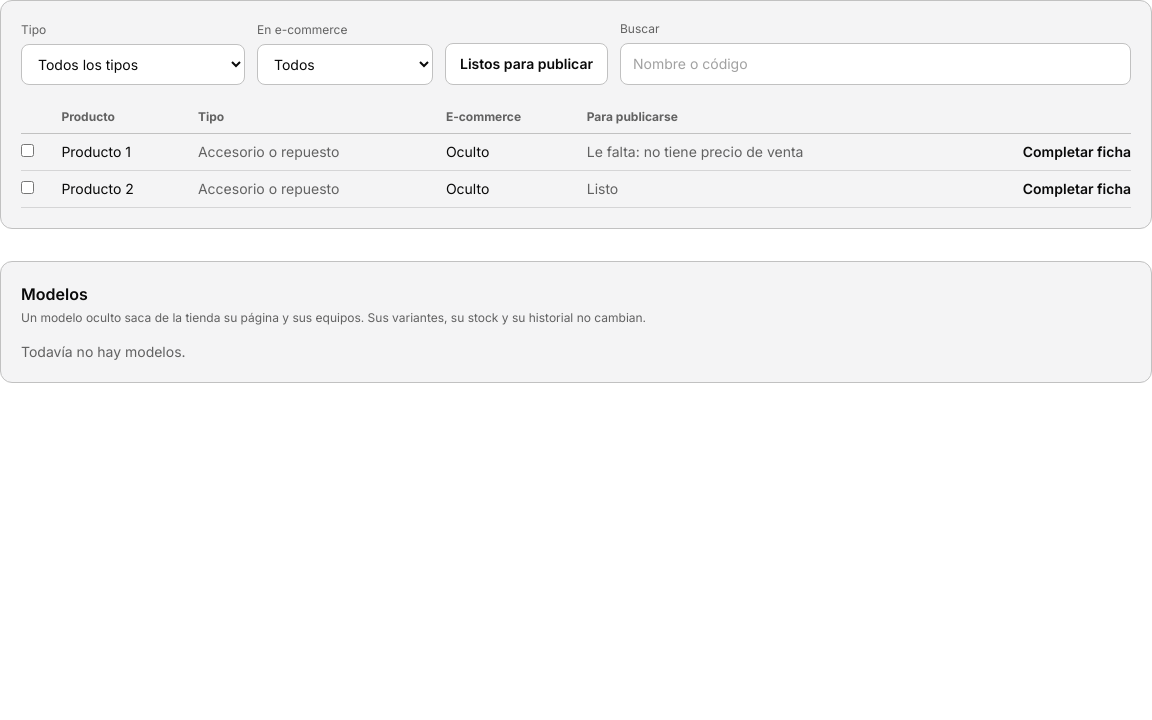
Test case: Completar ficha — pendientes y editores › el rechazo del servidor aparece en el campo y no se pierde lo escrito
Check: the table named "Productos y variantes" is shown, box [21,101,1131,208]
Click the button with aria-label "Completar ficha de Producto 1": (1077, 152) [1023,142,1131,162]
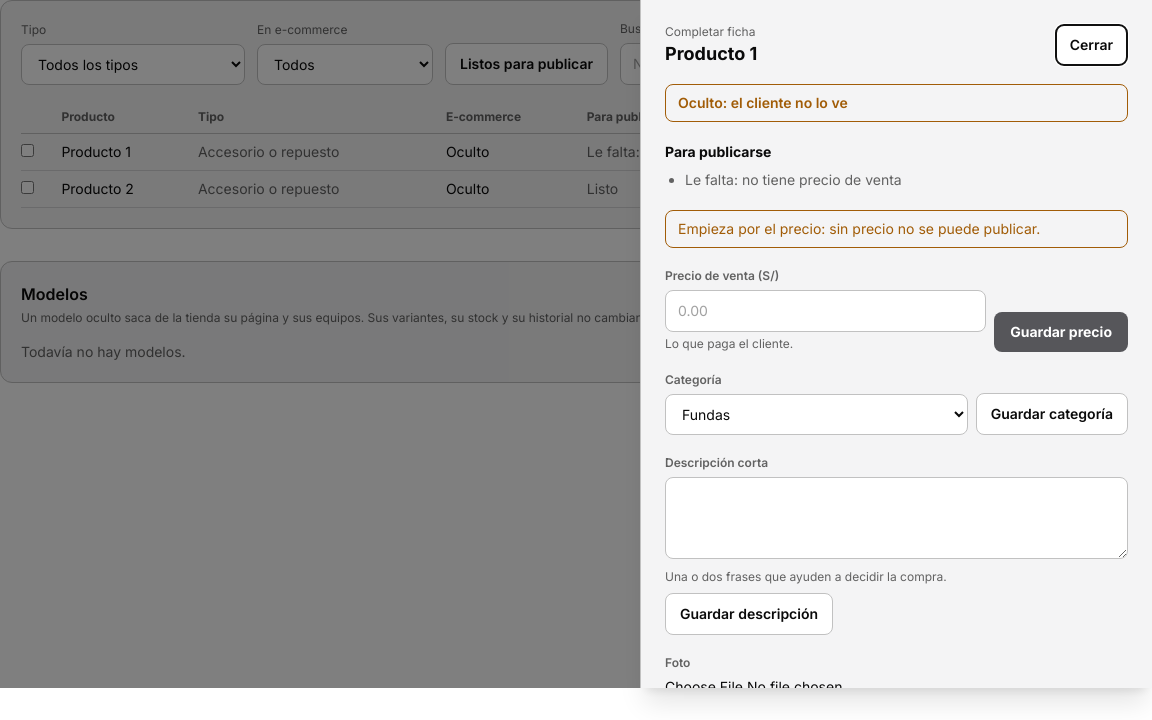
Check: the field labelled "Precio de venta (S/)" is shown
In the field labelled "Precio de venta (S/)": (826, 311) [665,290,986,332], type "5"
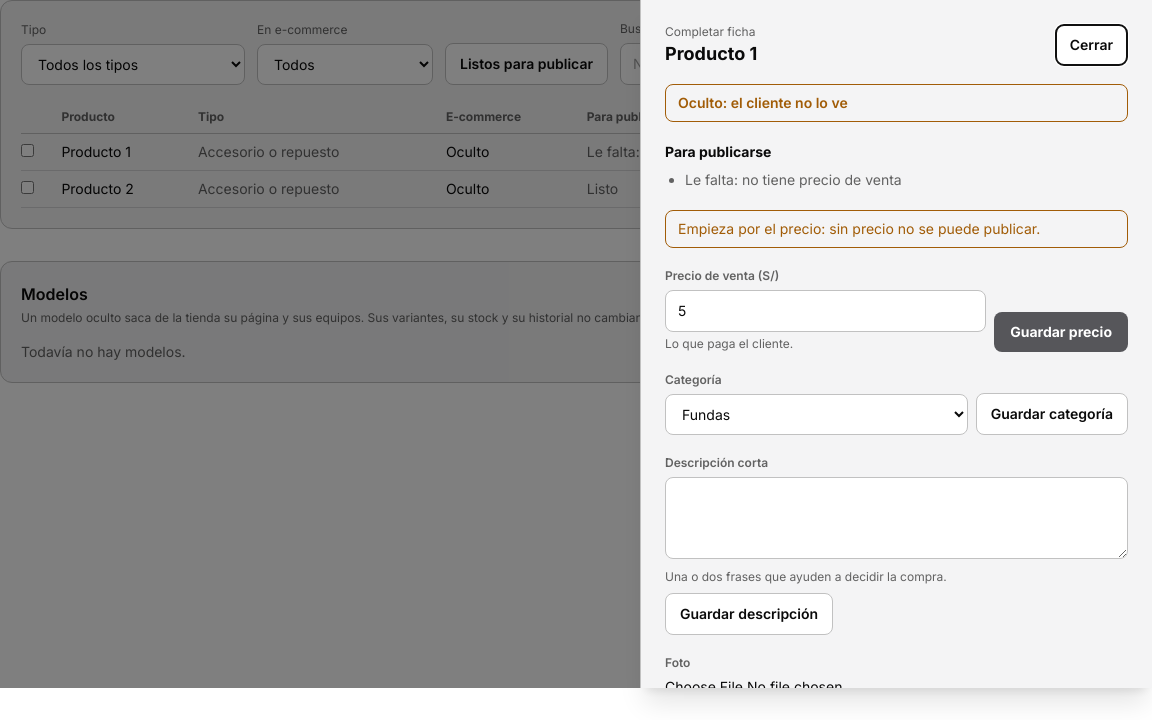
Click the button "Guardar precio": (1061, 332) [994,312,1128,352]
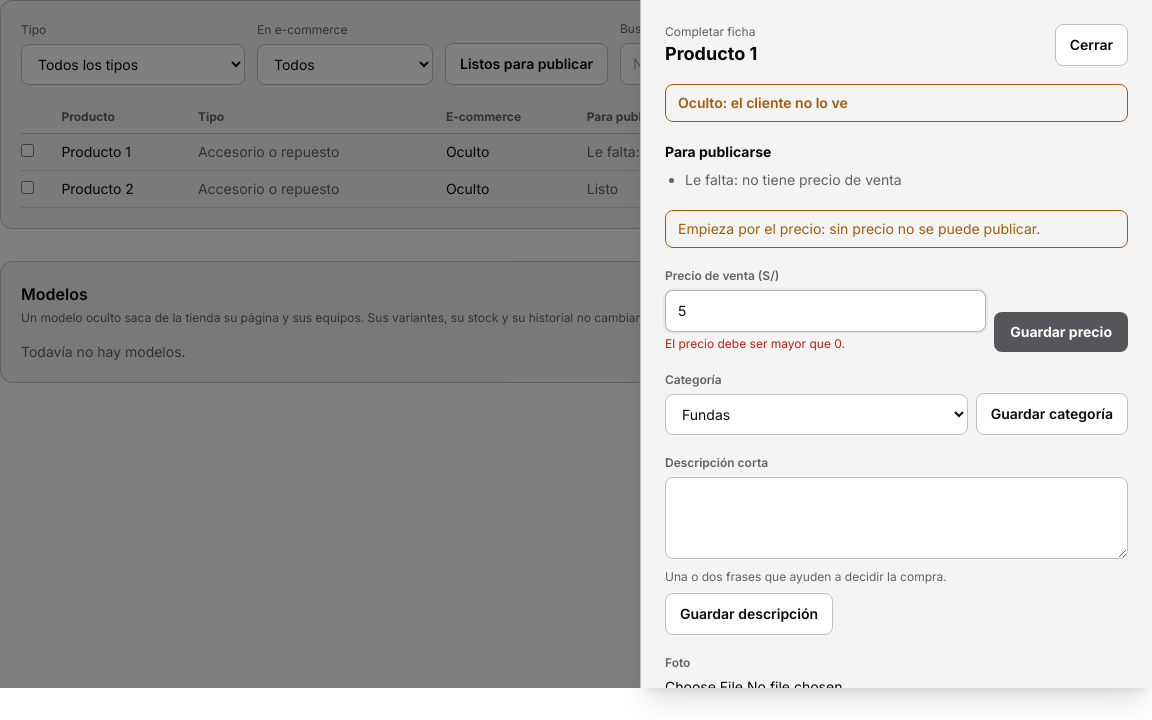
Check: the text "El precio debe ser mayor que 0." is shown, box [665,336,845,351]
